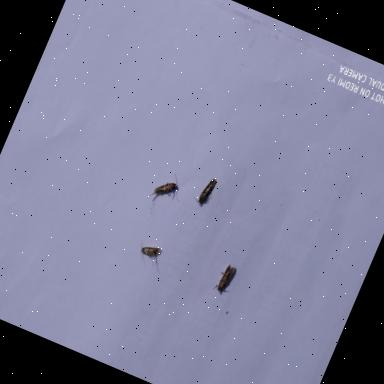pbw: (145, 166, 189, 213), (210, 259, 241, 298), (188, 172, 220, 207), (132, 239, 166, 271)
